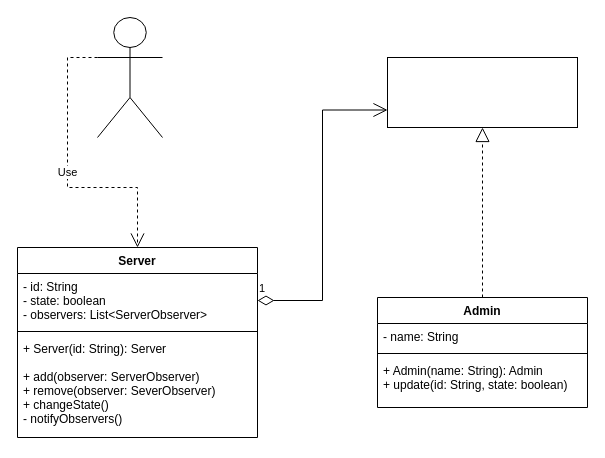
Image size: 605x458. Some labels were removed from this diagram. Here are the shapes that lost their labels. From the top down, the centre of each, then its label:
At point (129, 77): "Actor".
At point (482, 92): "<<Interface>> ServerObserver + update(id: String, state: boolean)".
